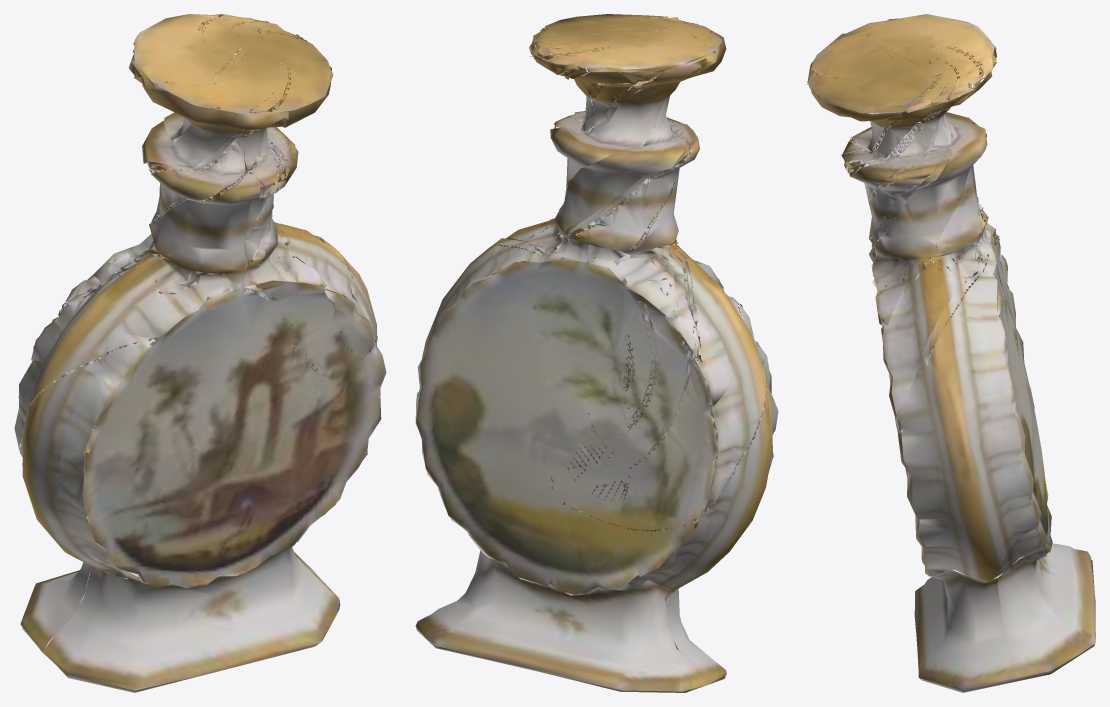
File: obj_perfume_bottle_with_a_landsc.glb
3 renders of one model, left to right at view 1: azimuth 30°, elevation 25°; view 2: azimuth 150°, elevation 25°; view 3: azimuth 270°, elevation 25°, orthographic. The views are drawn at different scales.
Visible parts, largest first — view 1: Object_2; view 2: Object_2; view 3: Object_2.
Part boxes in pixels (x1,y1,x2,y2): Object_2: (14, 14, 386, 692); Object_2: (415, 14, 778, 692); Object_2: (807, 14, 1095, 692).
Size of the model in its own units: 0.0879 by 0.1501 by 0.0665.
Materials: 1 (1 with a texture image).
